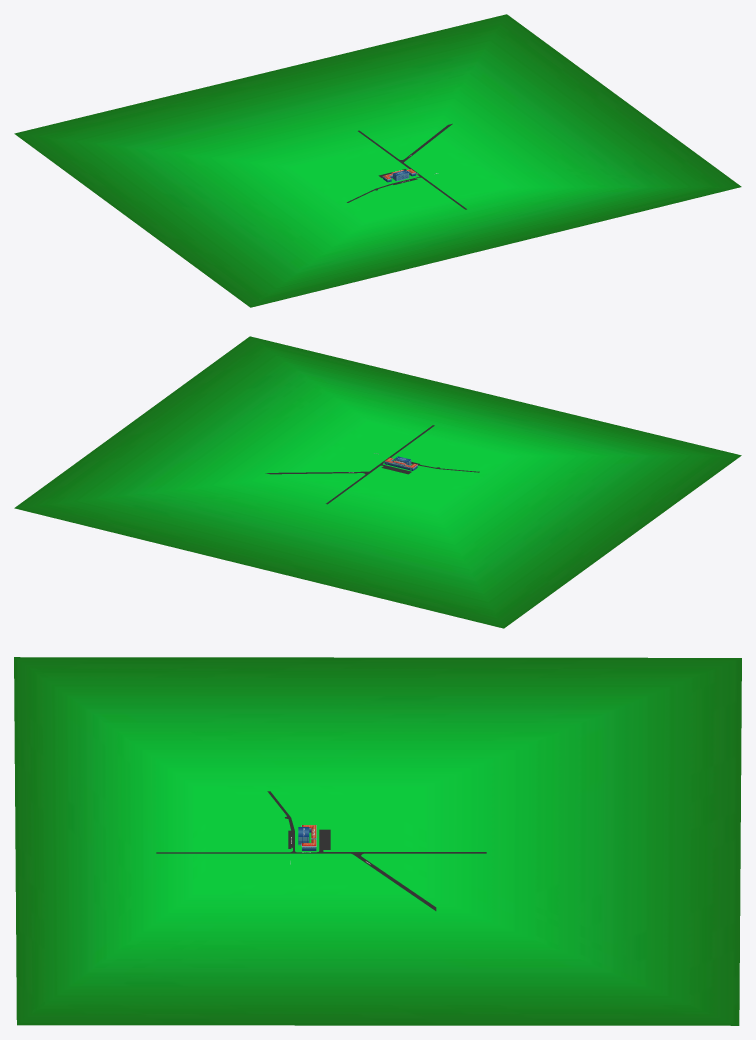
The model's file is building8.gltf.
The picture shows the model from 3 angles, top to bottom: view 1: azimuth 30°, elevation 25°; view 2: azimuth 150°, elevation 25°; view 3: azimuth 270°, elevation 25°; orthographic projection. The views are drawn at different scales.
Visible parts, largest first — view 1: building_002; view 2: building_002; view 3: building_002.
Boxes of the visible parts, x1,y1,x2,y2 form: building_002: [14, 14, 741, 307]; building_002: [14, 336, 741, 628]; building_002: [14, 657, 741, 1025].
Bounding box in the file's own units: 602 × 6.69 × 502.
4 materials, 1 textured.
